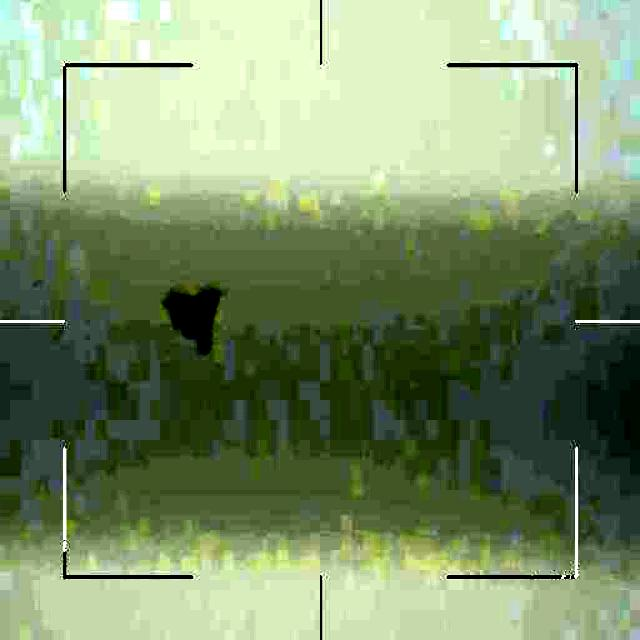bird: (159, 284, 225, 356)
